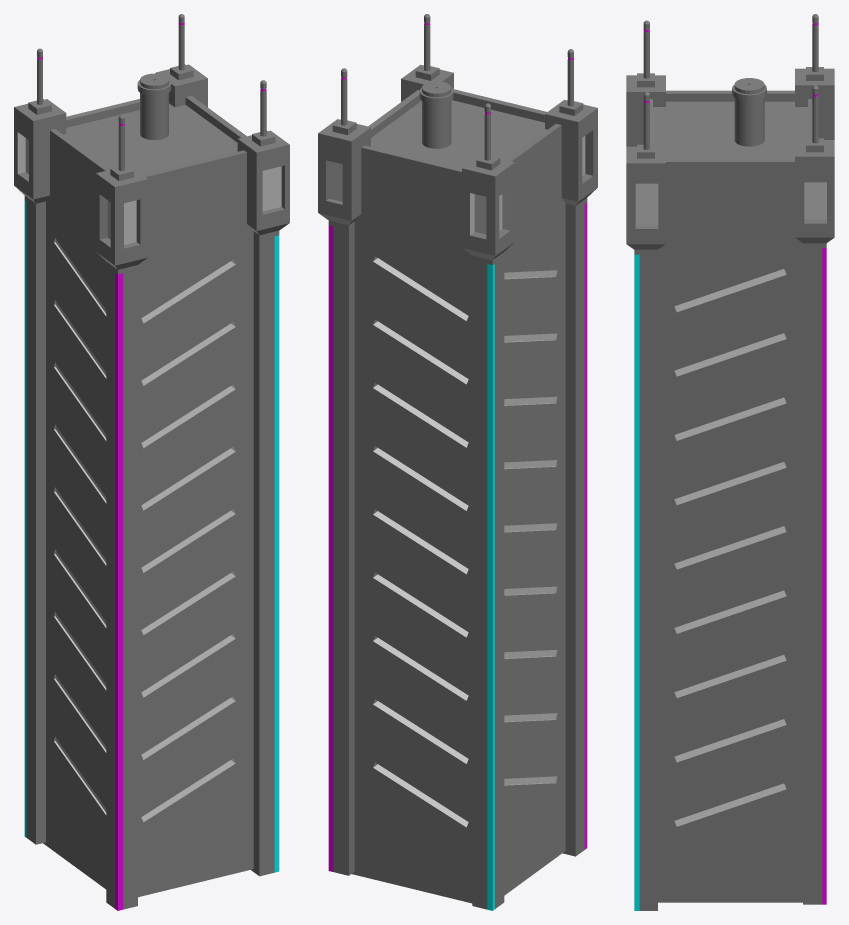
File: SM_Buildning_01.fbx
3 views of the same model, side by side, from view 1: azimuth 30°, elevation 25°; view 2: azimuth 150°, elevation 25°; view 3: azimuth 270°, elevation 25° (orthographic). The views are drawn at different scales.
Visible parts, largest first — view 1: pCube44; view 2: pCube44; view 3: pCube44.
Boxes of the visible parts, x1,y1,x2,y2 form: pCube44: [14, 14, 289, 910]; pCube44: [318, 14, 597, 910]; pCube44: [626, 14, 834, 910].
Size of the model in its own units: 29.33 by 127 by 29.33.
